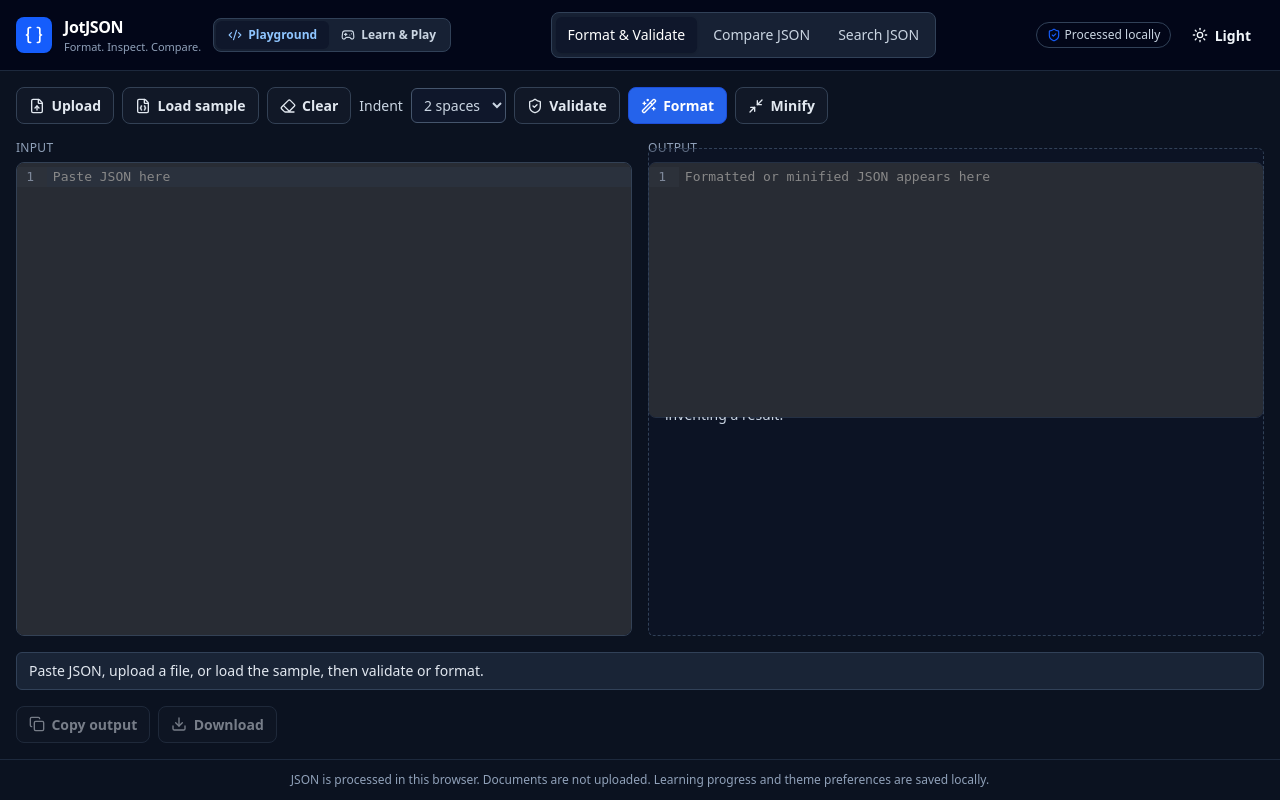
Test case: JotJSON Learn & Play › switches between Playground and Learn & Play modes
Expected: the tab "Format & Validate" is shown, [556, 17, 697, 53]
Note: Click Learn & Play primary navigation tab
What coordinates should you click on to do the following:
click the tab "Learn & Play"
I would click on:
 (389, 35)
Its box is [329, 21, 448, 49].
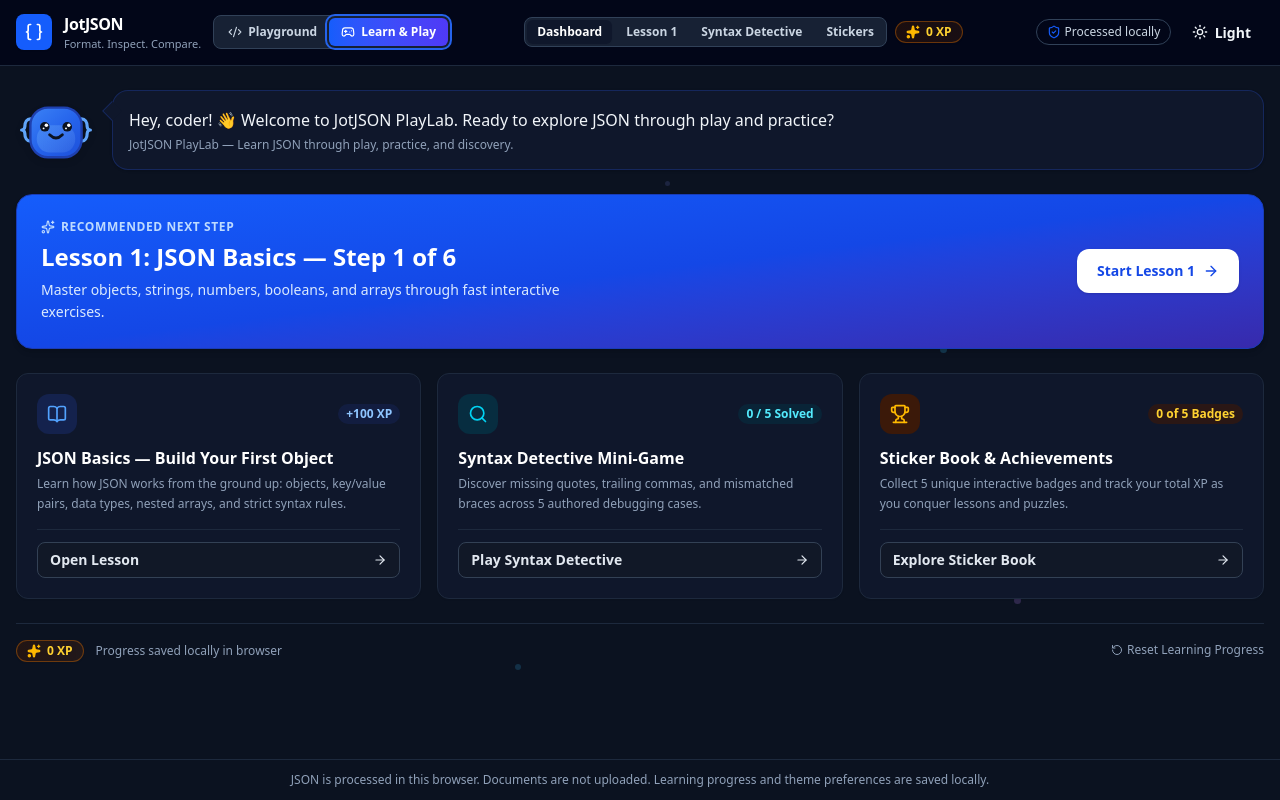
Expected: the tab "Dashboard" is shown, [527, 20, 612, 44]
Expected: the tab "Lesson 1" is shown, [616, 20, 687, 44]
Expected: the tab "Syntax Detective" is shown, [691, 20, 812, 44]
Note: Switch back to Playground
What coordinates should you click on to do the following:
click the tab "Playground"
I would click on:
 (273, 32)
Its box is [216, 18, 329, 46].
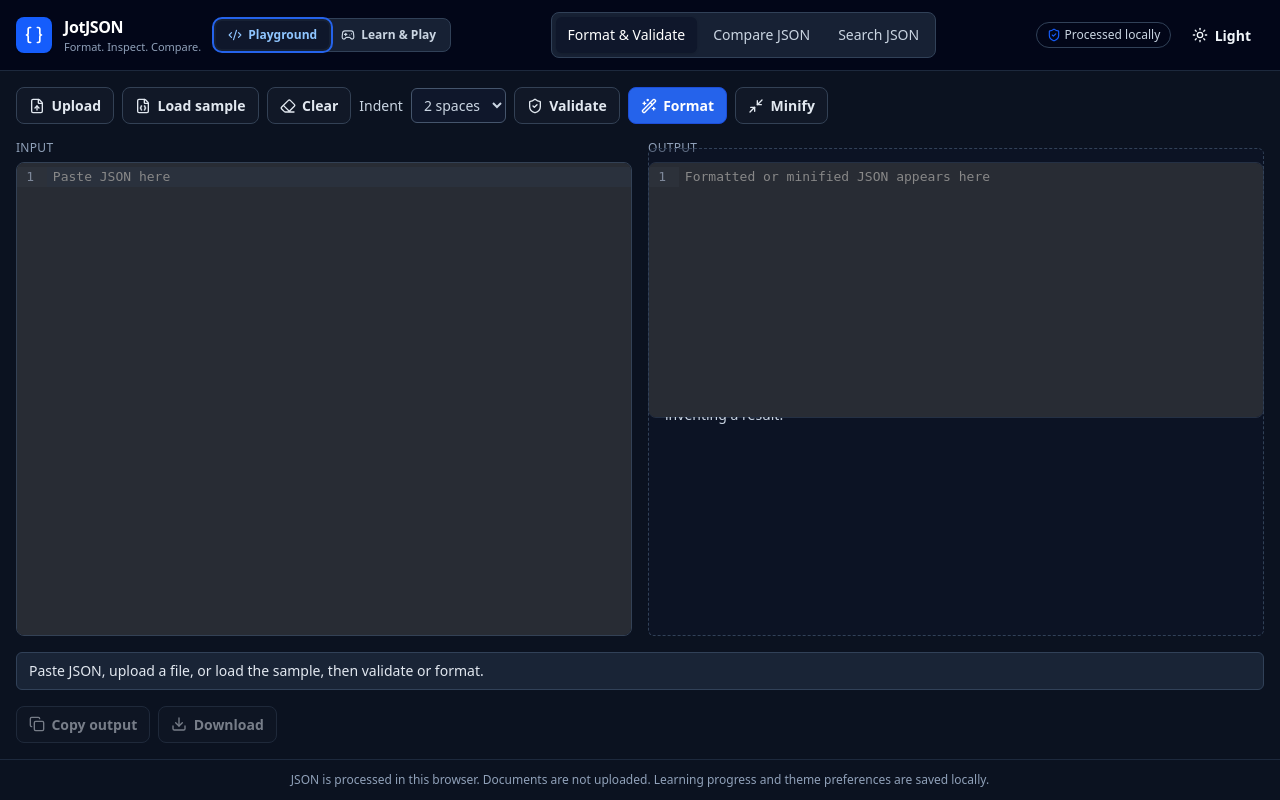
Expected: the tab "Format & Validate" is shown, [556, 17, 697, 53]
